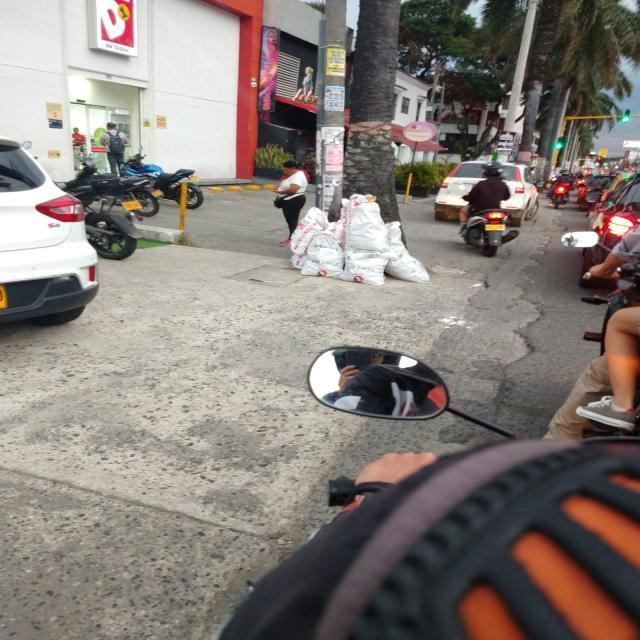Garbage_Bag: (384, 221, 434, 284), (344, 194, 392, 253), (300, 230, 342, 279), (288, 204, 328, 253), (340, 248, 390, 286)
